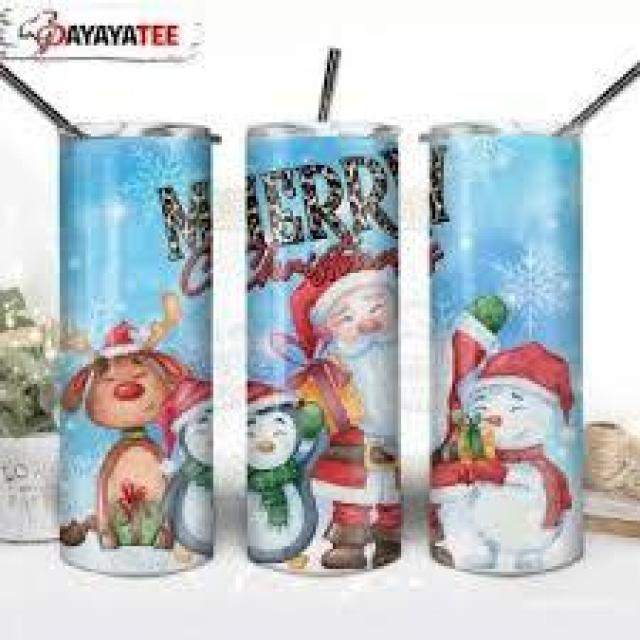bottle: (2, 61, 224, 582), (424, 63, 640, 586), (239, 42, 407, 588)
